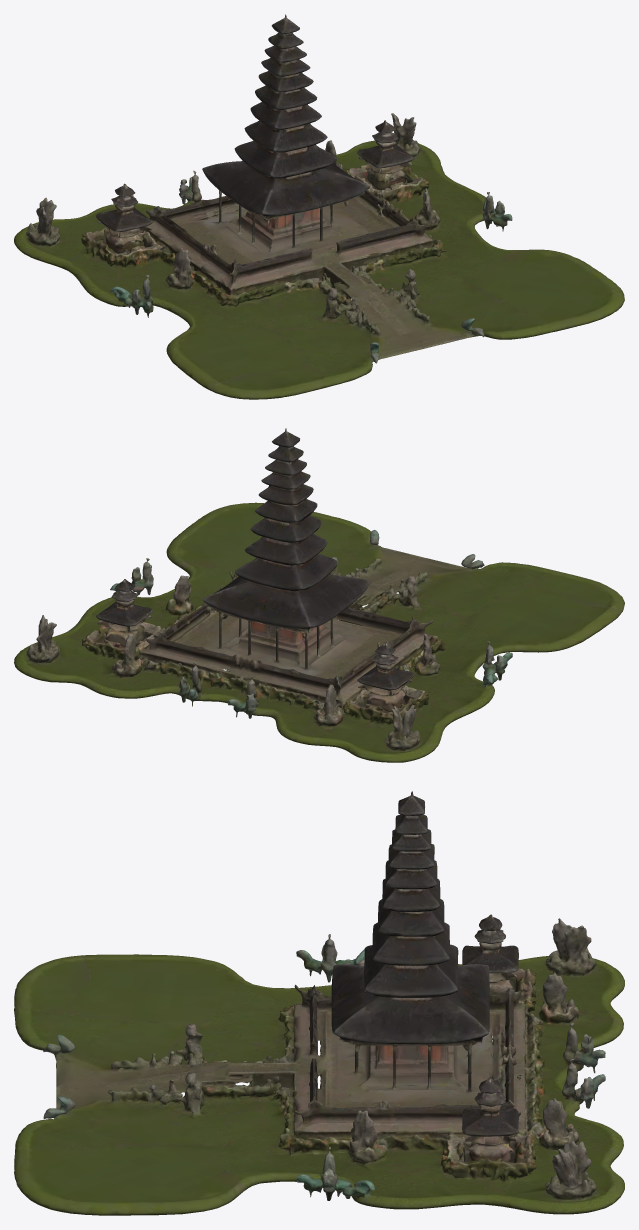
Rendered from ulun-danu.glb.
3 renders of one model, top to bottom at view 1: azimuth 30°, elevation 25°; view 2: azimuth 150°, elevation 25°; view 3: azimuth 270°, elevation 25°, orthographic. The views are drawn at different scales.
Size of the model in its own units: 1.89 by 1.02 by 1.9.
Materials: 1 (1 with a texture image).
